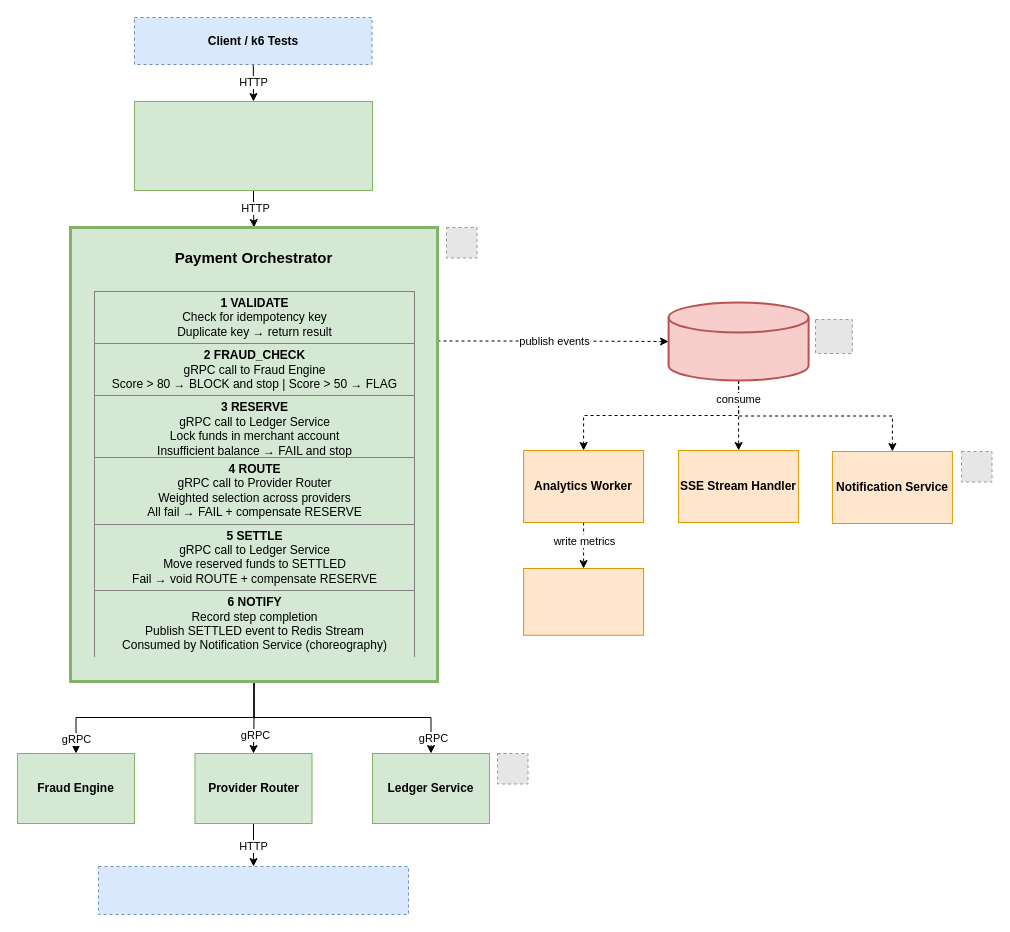
Image size: 1010x932. Some labels were removed from this diagram. Grey dashed boxes stand in for pictures. Here are the shapes that lost their labels. From the top down, the centre of each, then its label:
(x=253, y=145): API Gateway - API key auth - Token bucket rate limit - SSE /stream/transactions
(x=738, y=341): Redis Streams
(x=583, y=601): Redis Hash metrics
(x=253, y=890): Provider Mock stripe / adyen / paypal (sim)
